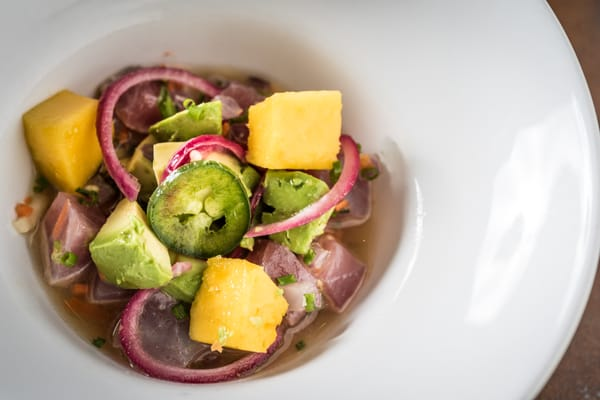sushi: (0, 25, 423, 387)
